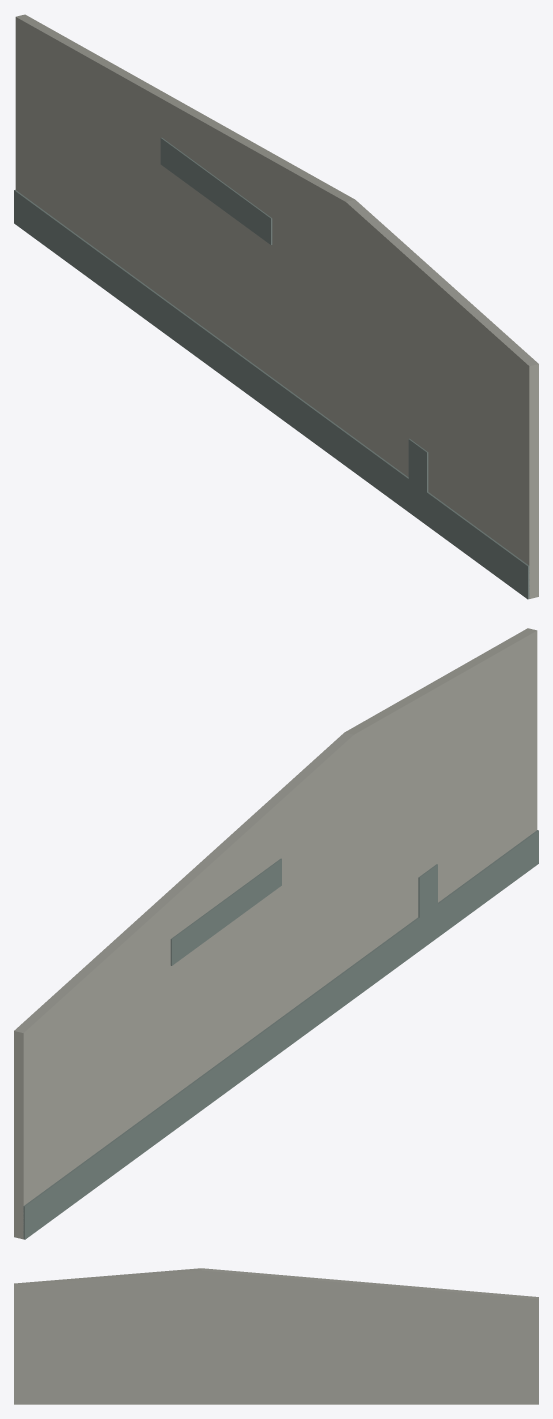
The model's file is SM_NavePoligono_Testero_e2_CubiertaHundida_LOD1.fbx.
3 views of the same model, one above another, from view 1: azimuth 30°, elevation 25°; view 2: azimuth 150°, elevation 25°; view 3: azimuth 270°, elevation 25° (orthographic). The views are drawn at different scales.
Visible parts, largest first — view 1: SM_nave_poligono_v7_LOD1; view 2: SM_nave_poligono_v7_LOD1; view 3: SM_nave_poligono_v7_LOD1.
Boxes of the visible parts, bbox=[...] form: SM_nave_poligono_v7_LOD1: bbox=[14, 14, 538, 599]; SM_nave_poligono_v7_LOD1: bbox=[14, 628, 538, 1239]; SM_nave_poligono_v7_LOD1: bbox=[14, 1268, 538, 1404].
Bounding box in the file's own units: 0.35 × 7.9 × 28.
